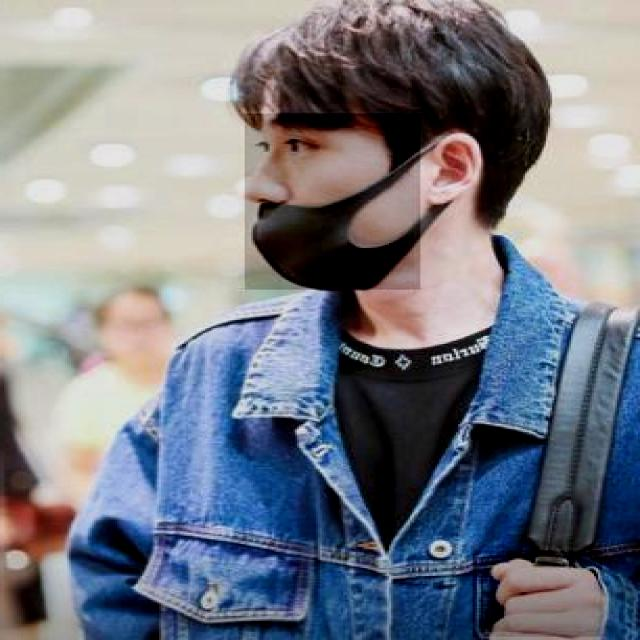face_mask: (245, 113, 420, 290)
hand_noglove: (470, 550, 602, 638)
head_nohelmet: (220, 0, 562, 128)
person: (59, 20, 640, 638)
